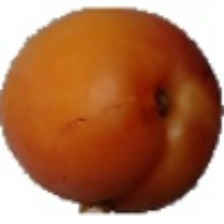apricot: (35, 30, 181, 219)
